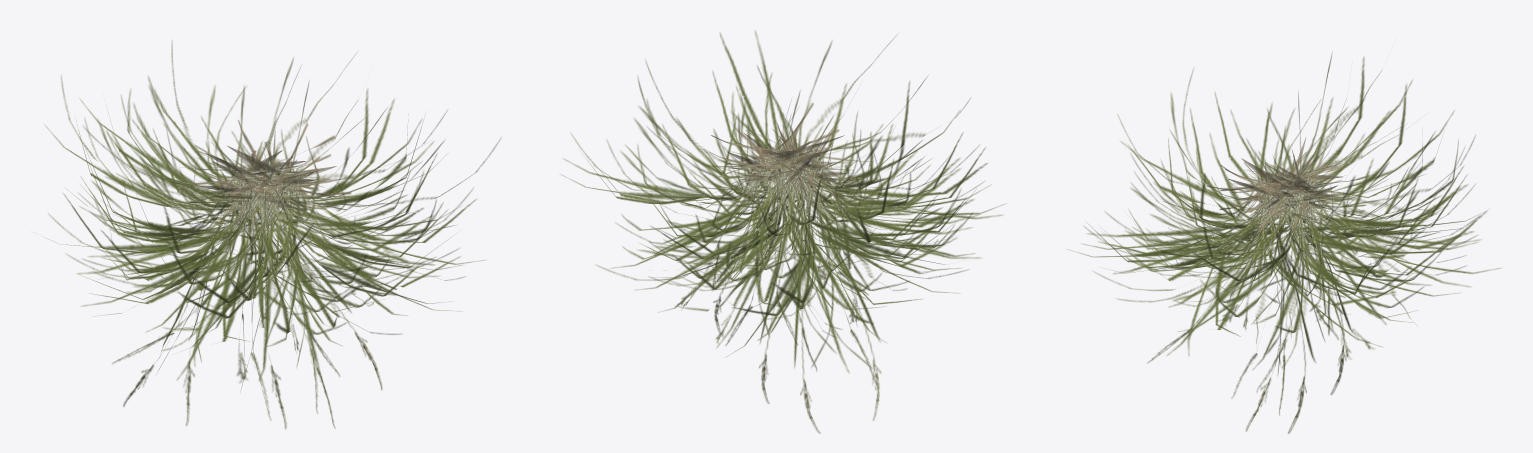
The model's file is bush.glb.
The picture shows the model from 3 angles, left to right: view 1: azimuth 30°, elevation 25°; view 2: azimuth 150°, elevation 25°; view 3: azimuth 270°, elevation 25°; orthographic projection. The views are drawn at different scales.
Parts seen in each view (by area): view 1: grass_bush; view 2: grass_bush; view 3: grass_bush.
Part boxes in pixels (box(x1,y1,x2,y2)): grass_bush: box(45, 41, 500, 428); grass_bush: box(560, 31, 1004, 433); grass_bush: box(1067, 54, 1500, 433).
Size of the model in its own units: 1.63 by 1.38 by 1.68.
Materials: 1 (1 with a texture image).
